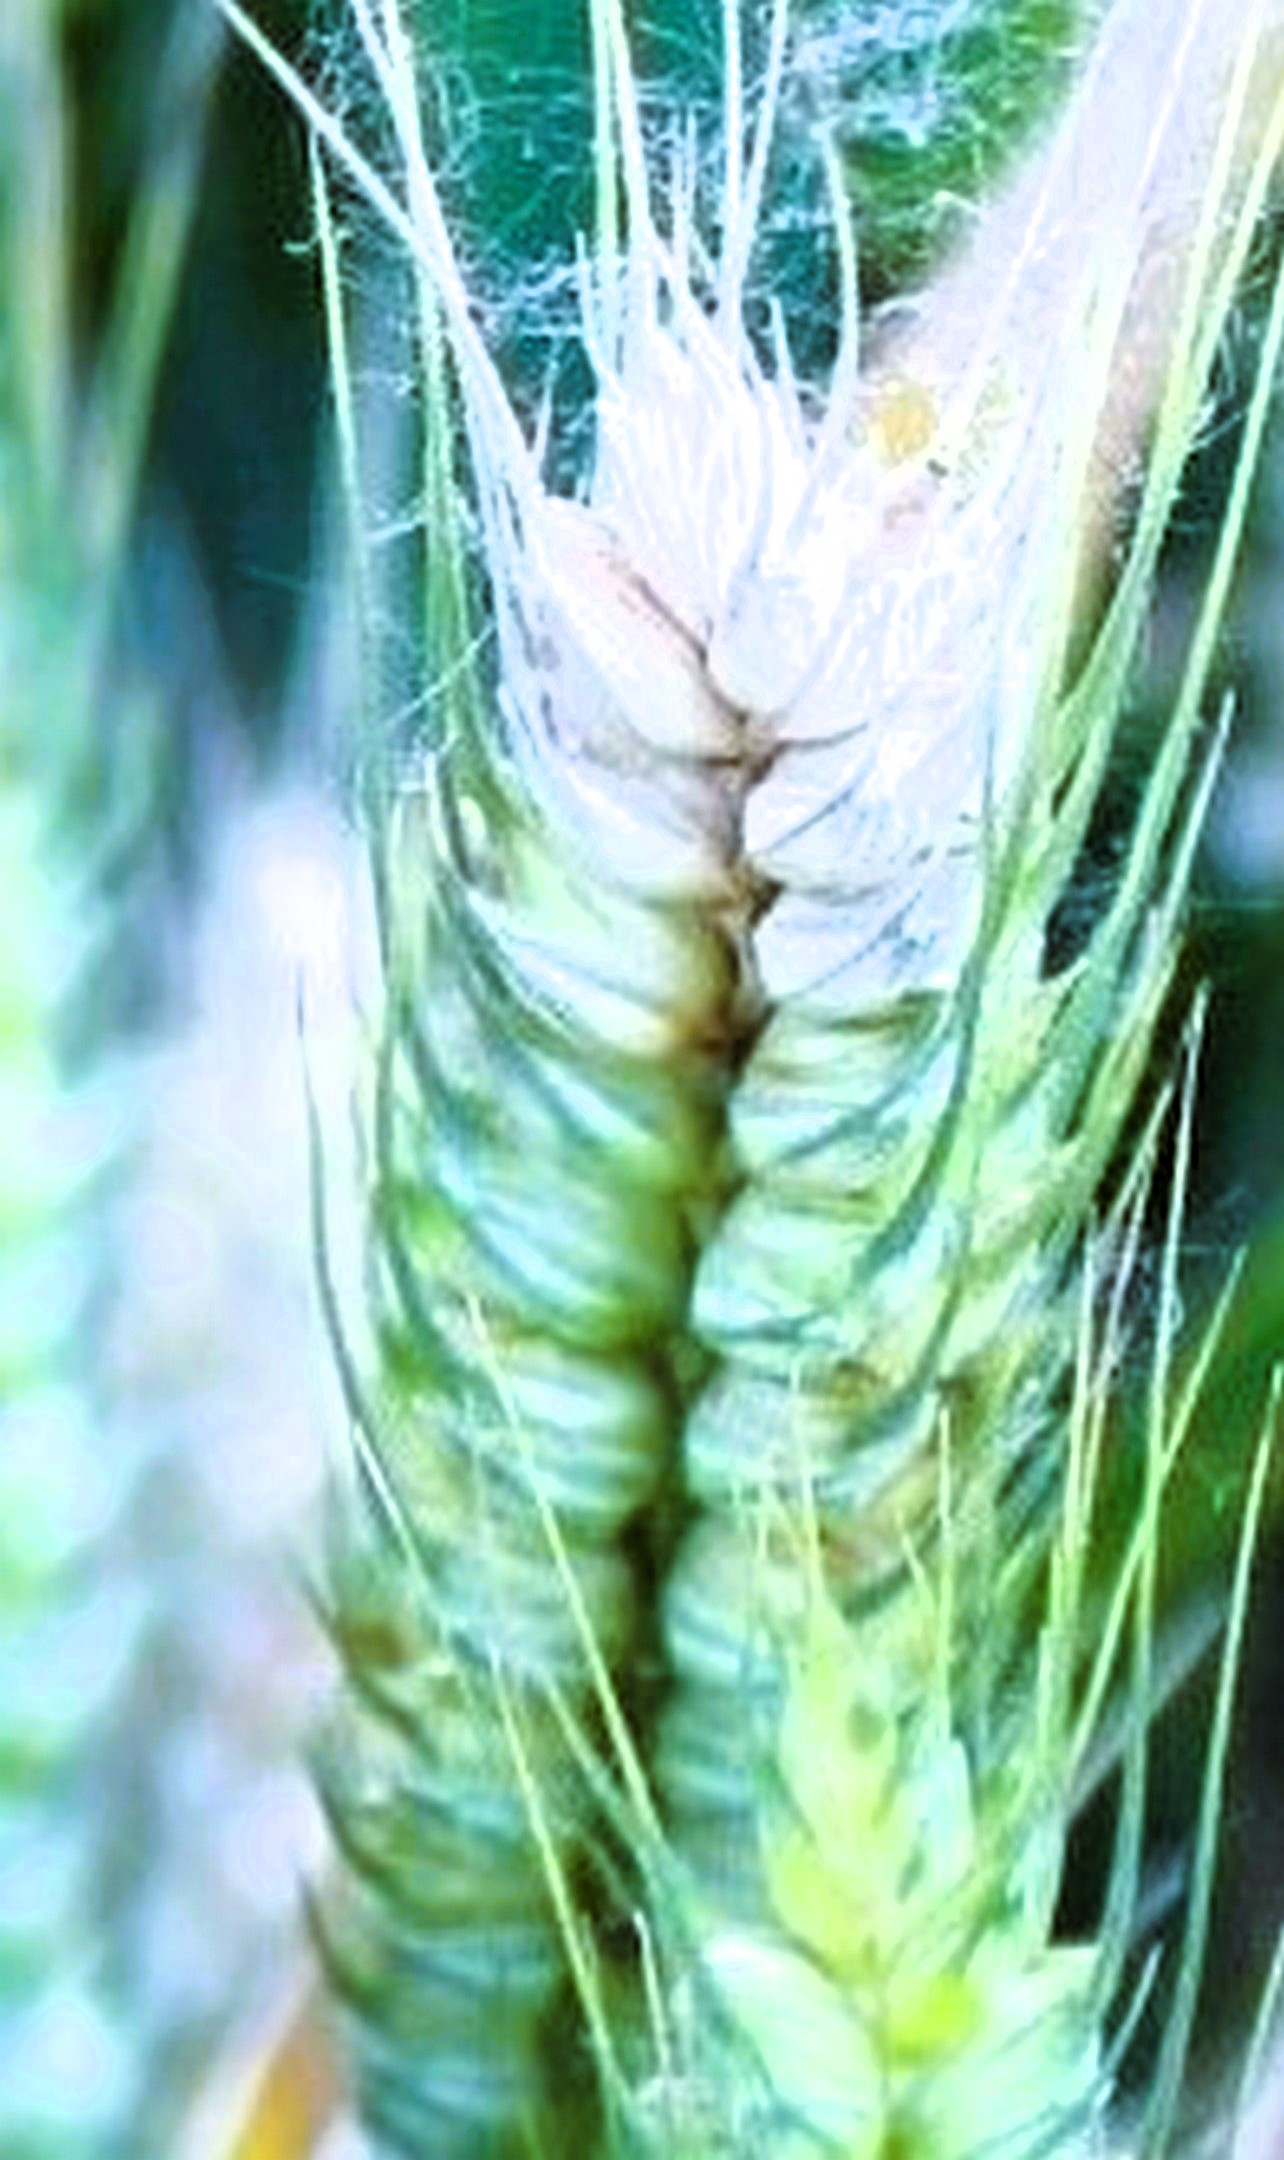Wheat scab: (329, 222, 1166, 1454)
